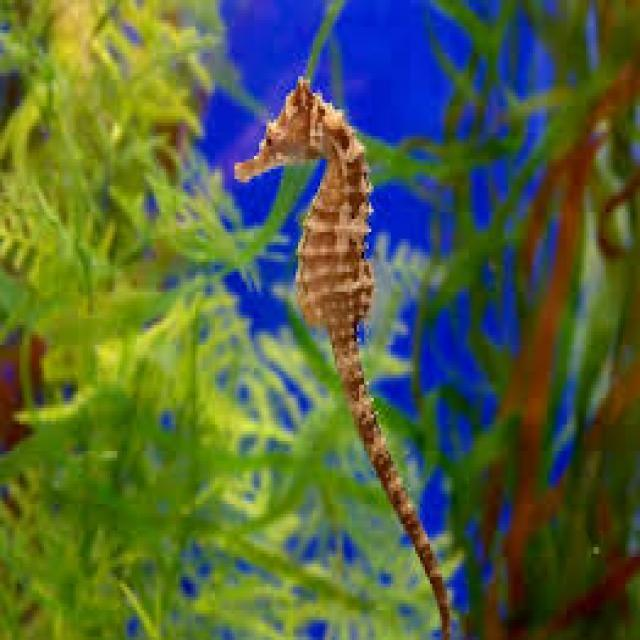SeaHorse: (235, 80, 464, 640)
